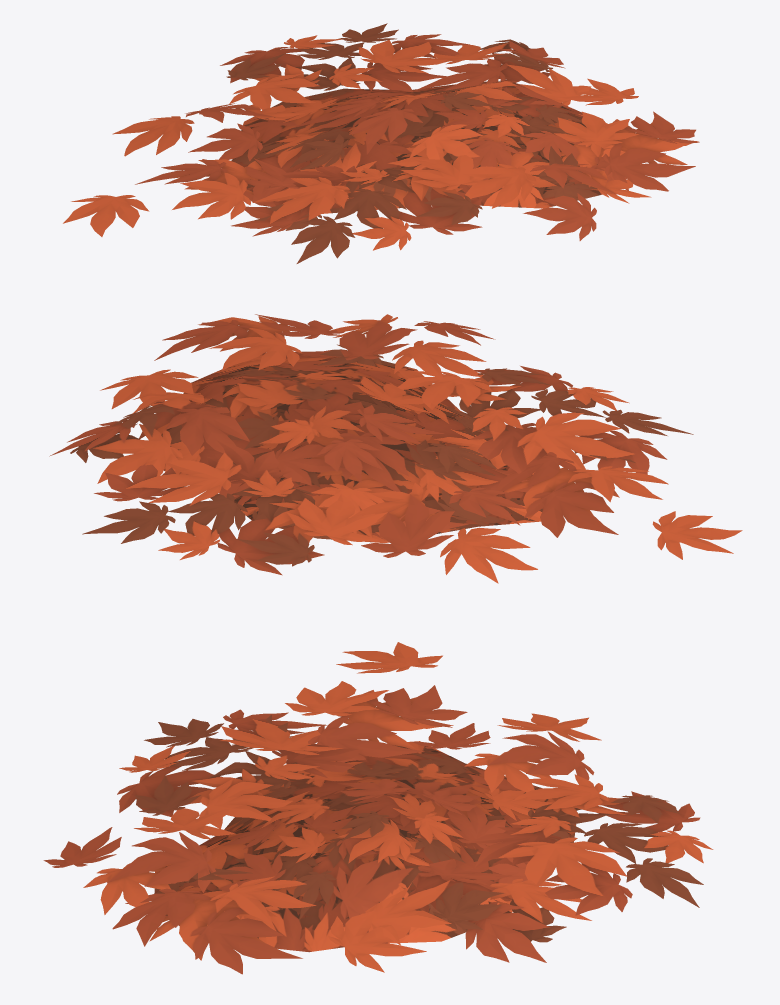
Rendered from SM_Env_Maple_Pile_01.fbx.
The picture shows the model from 3 angles, top to bottom: view 1: azimuth 30°, elevation 25°; view 2: azimuth 150°, elevation 25°; view 3: azimuth 270°, elevation 25°; orthographic projection. The views are drawn at different scales.
Parts seen in each view (by area): view 1: SM_Env_Maple_Pile_01; view 2: SM_Env_Maple_Pile_01; view 3: SM_Env_Maple_Pile_01.
Boxes of the visible parts, left/top/right/bottom form: SM_Env_Maple_Pile_01: left=63, top=23, right=699, bottom=263; SM_Env_Maple_Pile_01: left=49, top=314, right=742, bottom=583; SM_Env_Maple_Pile_01: left=43, top=642, right=713, bottom=974.
Bounding box in the file's own units: 386 × 26.94 × 338.
